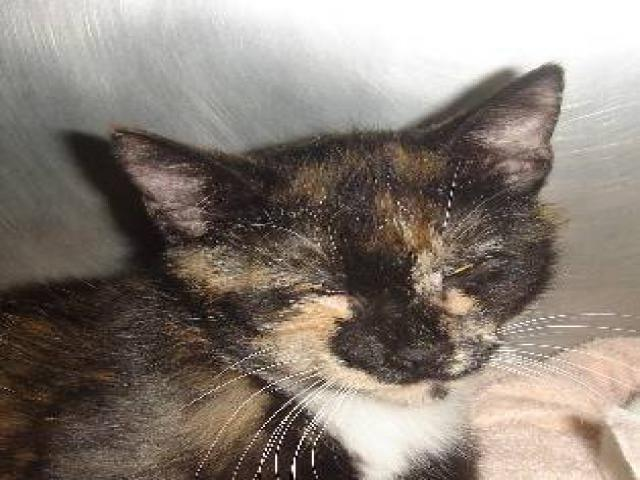cat: (6, 61, 616, 474)
